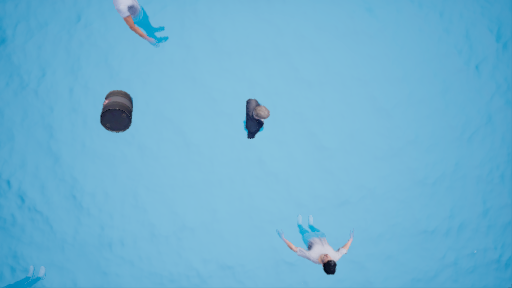person: (278, 211, 358, 275), (115, 1, 185, 58), (240, 96, 273, 143)
